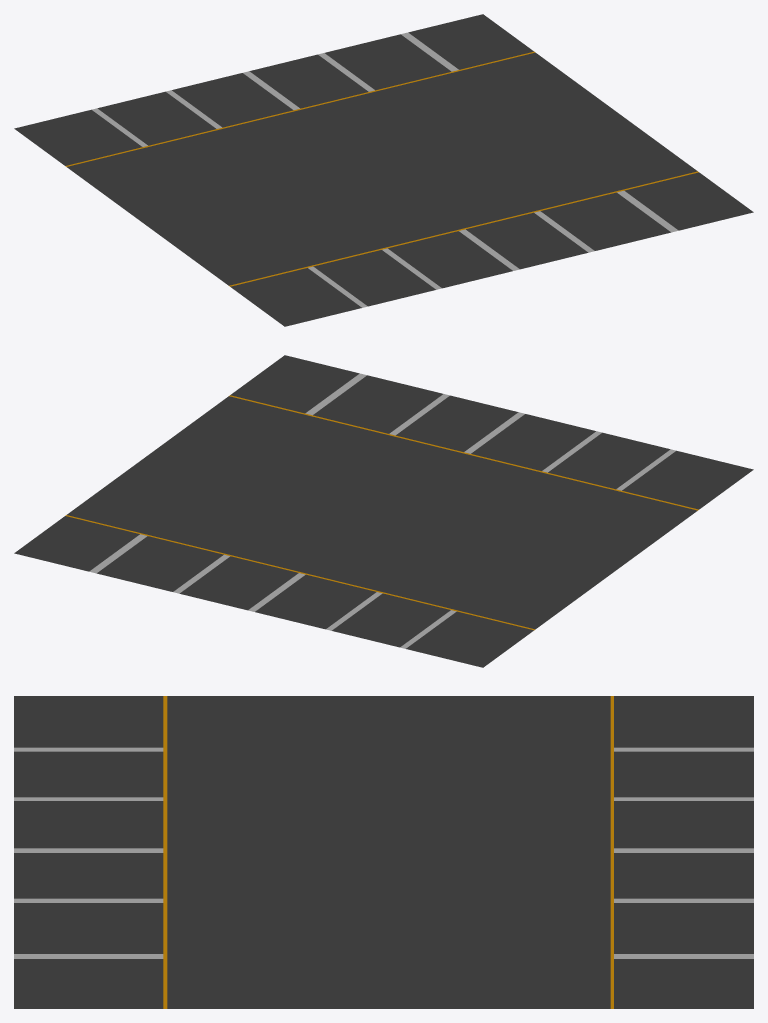
The model's file is Parking Ground_Material.013.glb.
The picture shows the model from 3 angles, top to bottom: view 1: azimuth 30°, elevation 25°; view 2: azimuth 150°, elevation 25°; view 3: azimuth 270°, elevation 25°; orthographic projection. The views are drawn at different scales.
Visible parts, largest first — view 1: Parking Ground_Material.013_0; view 2: Parking Ground_Material.013_0; view 3: Parking Ground_Material.013_0.
Boxes of the visible parts, <box> form: Parking Ground_Material.013_0: <box>14,14,753,326</box>; Parking Ground_Material.013_0: <box>14,355,753,667</box>; Parking Ground_Material.013_0: <box>14,696,753,1008</box>.
Size of the model in its own units: 10.01 by 7.56e-07 by 10.01.
1 material, 1 textured.
